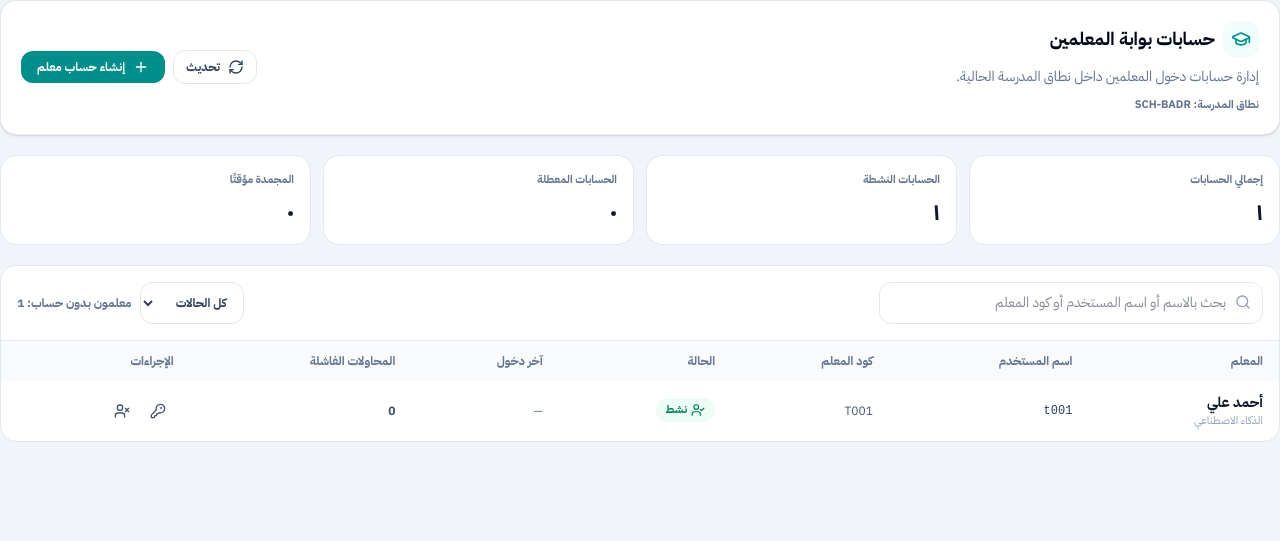
Test: PHASE 3C-A16.1 — Authoritative TeacherAccountsManager UI › status failure keeps current rendered status and does not refresh authoritative bundle
The width and height of the screenshot is (1280, 541).
Click the button titled "تغيير حالة الحساب" at (122,411), box 106,395 -> 138,427
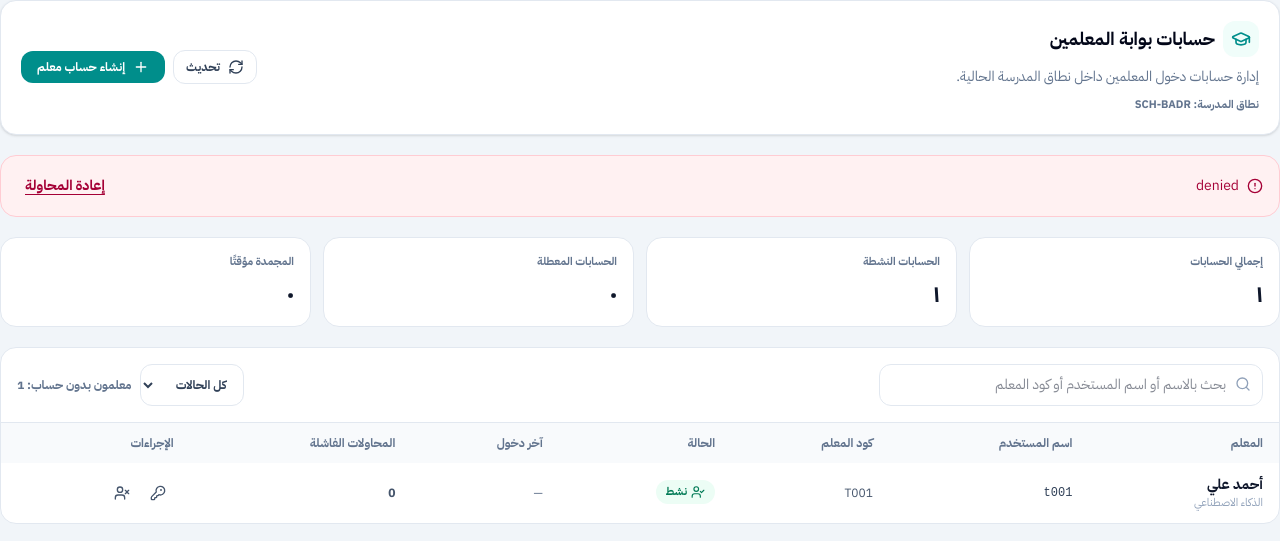
expect the text "نشط" is shown: met, box 863,252 -> 940,270
expect the text "denied" is shown: met, box 1196,176 -> 1263,196
